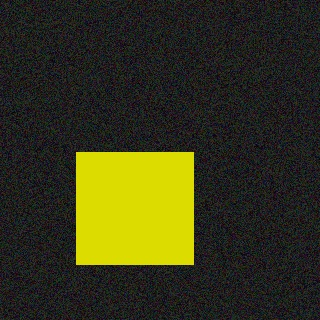yellow_barrel: (77, 152, 193, 264)
